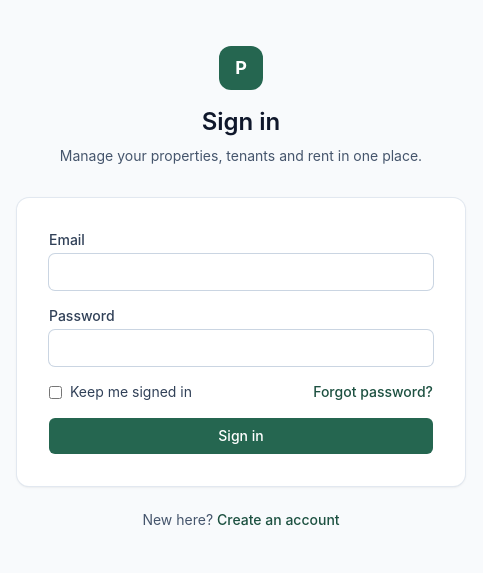
Test: sign in › shows the API message when the password is wrong
Type "seun@example.com" into the field labelled "Email". click: (241, 272)
box: [49,254,433,290]
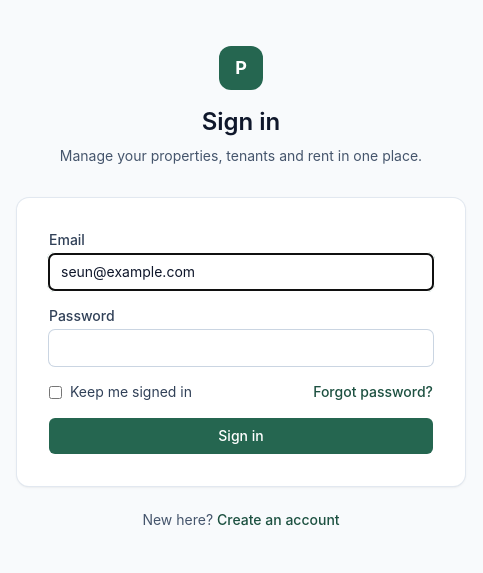
Type "wrong-password-1" into the password field labelled "Password". click: (241, 348)
box: [49,330,433,366]
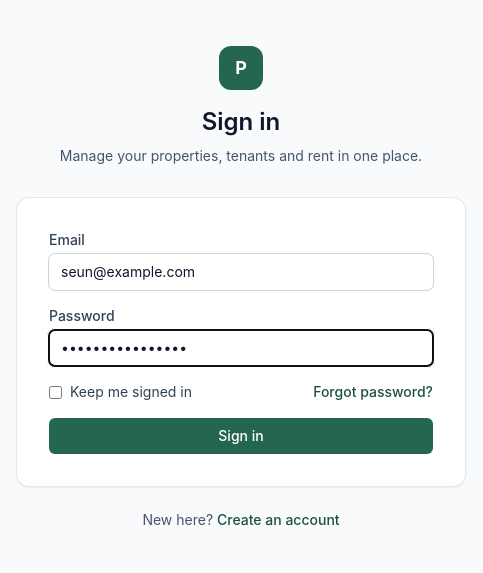
Click the button "Sign in". click: (241, 436)
box: [49,418,433,454]
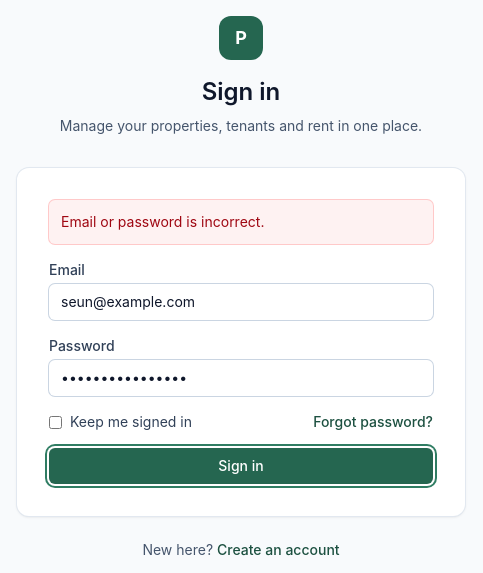
expect the message reads "Email or password is incorrect.": met, box [61,213,264,230]
